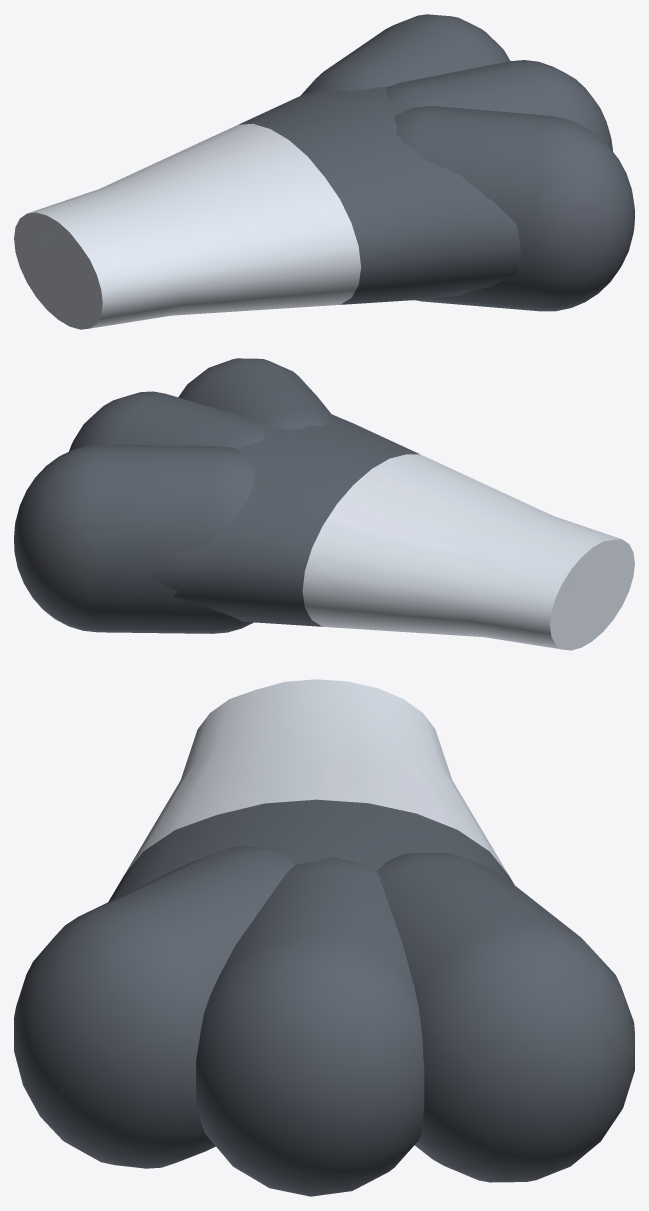
Rendered from cola_Muffin.obj.
3 renders of one model, top to bottom at view 1: azimuth 30°, elevation 25°; view 2: azimuth 150°, elevation 25°; view 3: azimuth 270°, elevation 25°, orthographic. The views are drawn at different scales.
Visible parts, largest first — view 1: Cone001; view 2: Cone001; view 3: Cone001.
Boxes of the visible parts, left/top/right/bottom form: Cone001: left=14, top=14, right=634, bottom=329; Cone001: left=14, top=358, right=634, bottom=650; Cone001: left=14, top=679, right=634, bottom=1196.
Bounding box in the file's own units: 21.12 × 6.72 × 15.13.
